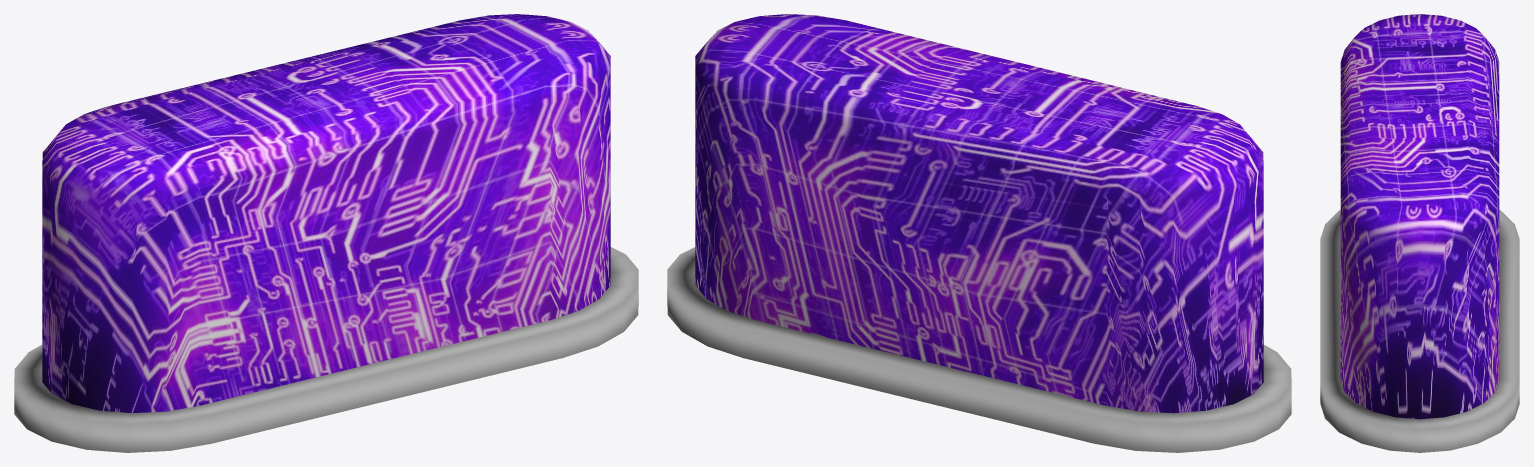
Rendered from electronic3Tex.fbx.
The picture shows the model from 3 angles, left to right: view 1: azimuth 30°, elevation 25°; view 2: azimuth 150°, elevation 25°; view 3: azimuth 270°, elevation 25°; orthographic projection. The views are drawn at different scales.
Visible parts, largest first — view 1: electronic3; view 2: electronic3; view 3: electronic3.
Boxes of the visible parts, x1,y1,x2,y2 form: electronic3: (14, 14, 638, 452); electronic3: (667, 14, 1291, 452); electronic3: (1320, 14, 1519, 452).
Bounding box in the file's own units: 8.16 × 3.48 × 2.87.
Materials: 2 (1 with a texture image).
